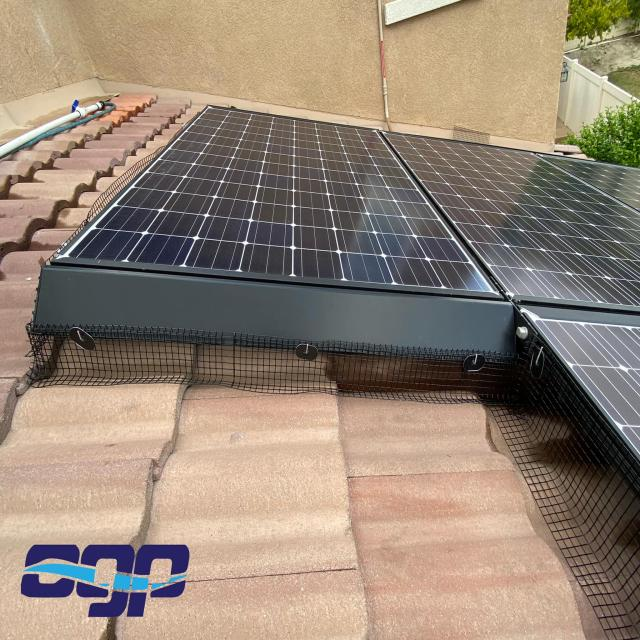clean-solar-panel: (59, 107, 495, 296)
